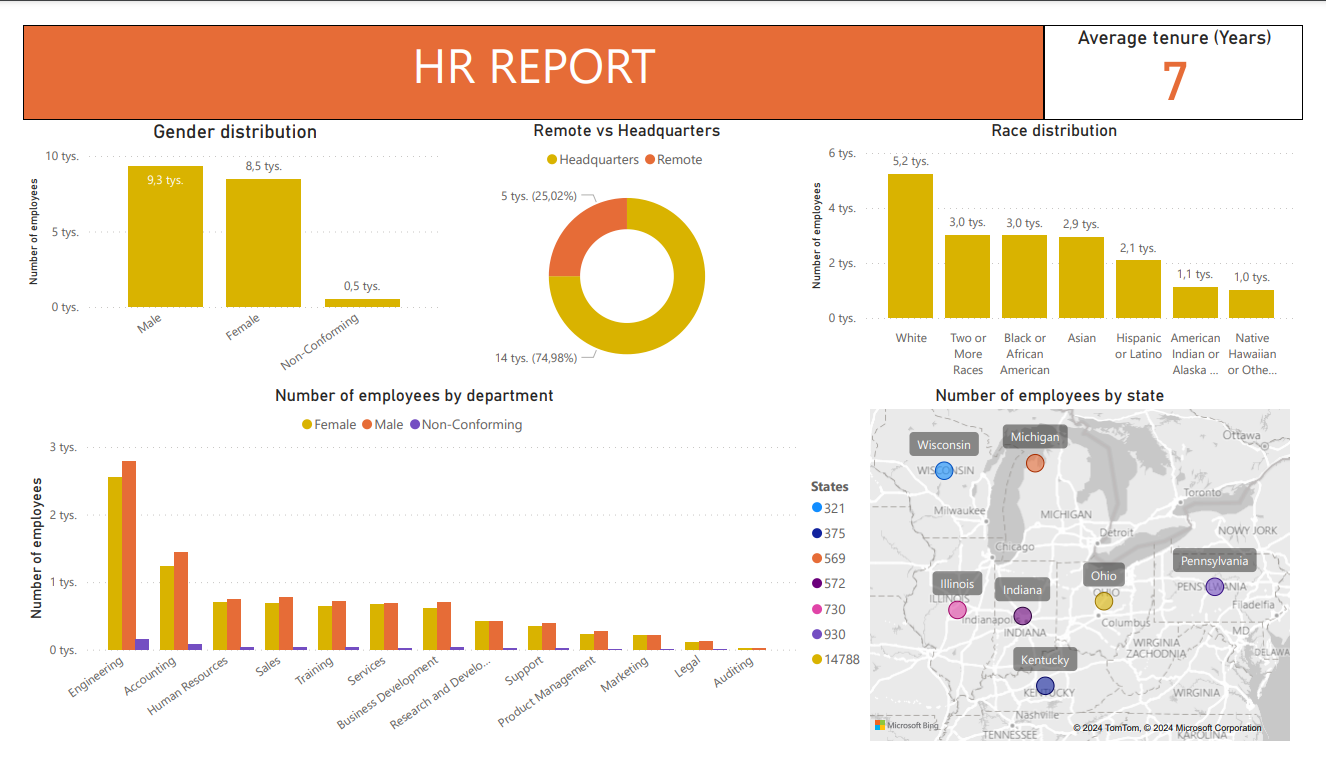

What the dashboard file says about the page in this screenshot:
{"tool":"powerbi","page":{"name":"Strona 1","canvas":[1280,720],"ordinal":0},"visuals":[{"type":"textbox","box":[0,0,1021.3,95.3],"z":0},{"type":"card","title":"Average tenure (Years)","fields":{"Values":["Sum(avg tenure.Column1)"]},"box":[1021.3,0,258.7,95.3],"z":1000},{"type":"columnChart","title":"Gender distribution","fields":{"Category":["gender.Column1"],"Y":["Sum(gender.Column2)"]},"box":[0,95.3,425,264.6],"z":2000},{"type":"clusteredColumnChart","title":"Number of employees by department","fields":{"Y":["Sum(gender departments.Column3)"],"Category":["gender departments.Column1"],"Series":["gender departments.Column2"]},"box":[0,359.9,783,359.9],"z":3000},{"type":"donutChart","title":"Remote vs Headquarters","fields":{"Category":["remote vs head.Column1"],"Y":["Sum(remote vs head.Column2)"]},"box":[425,95.3,357.9,264.6],"z":4000},{"type":"map","title":"Number of employees by state","fields":{"Category":["state distribution.Column1"],"Series":["state distribution.Column2"]},"box":[783,359.9,488.3,359.9],"z":5000},{"type":"columnChart","title":"Race distribution","fields":{"Category":["race distribution.Column1"],"Y":["Sum(race distribution.Column2)"]},"box":[783,95.3,497,264.6],"z":6000}]}

Visuals, with their boxes on the page's 1280x720 design canvas (x1, y1, x2, y2). These are canvas units, not pixel positions in the 1326x769 screenshot, which may show the page scaled, cropped or inside an application window:
textbox: [0,0,1021,95]
"Average tenure (Years)" card: [1021,0,1280,95]
"Gender distribution" columnChart: [0,95,425,360]
"Number of employees by department" clusteredColumnChart: [0,360,783,720]
"Remote vs Headquarters" donutChart: [425,95,783,360]
"Number of employees by state" map: [783,360,1271,720]
"Race distribution" columnChart: [783,95,1280,360]
